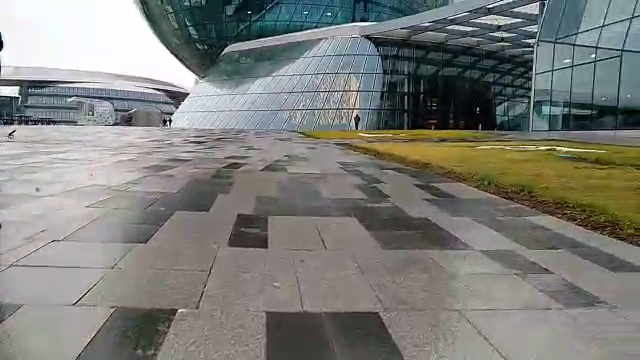kassa: (63, 90, 123, 131)
